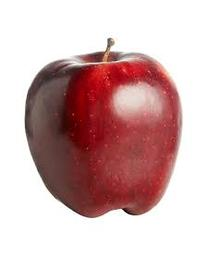apple: (24, 38, 183, 218)
